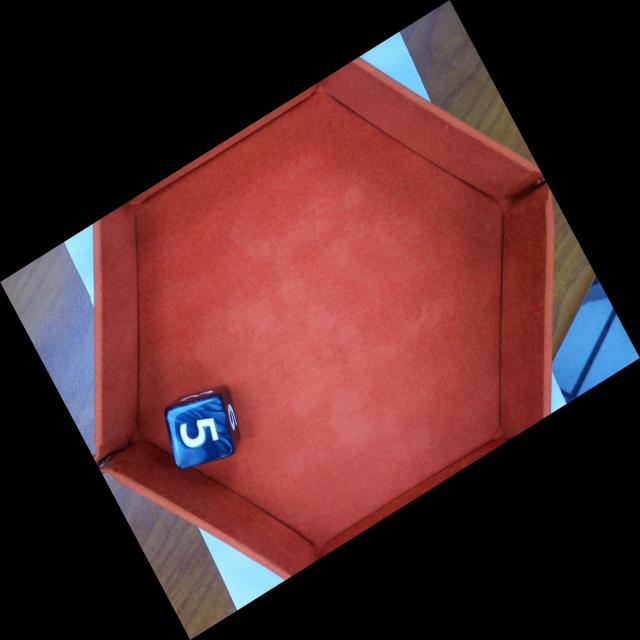dice: (172, 401, 234, 470)
